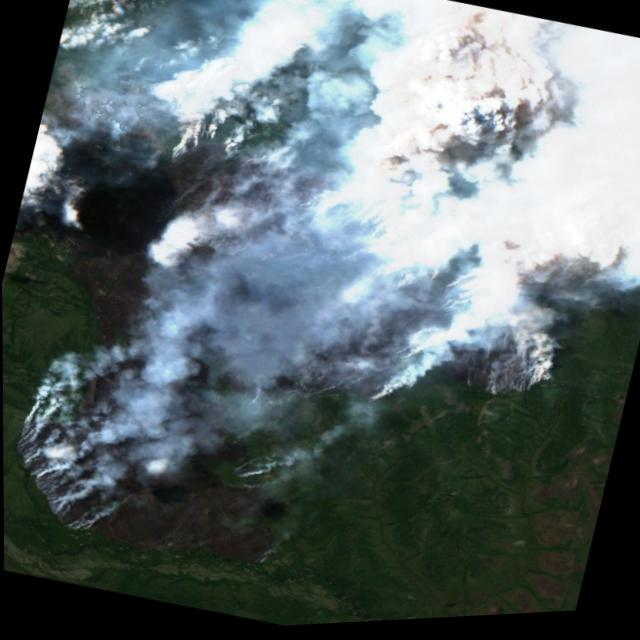fire: (0, 52, 600, 640)
